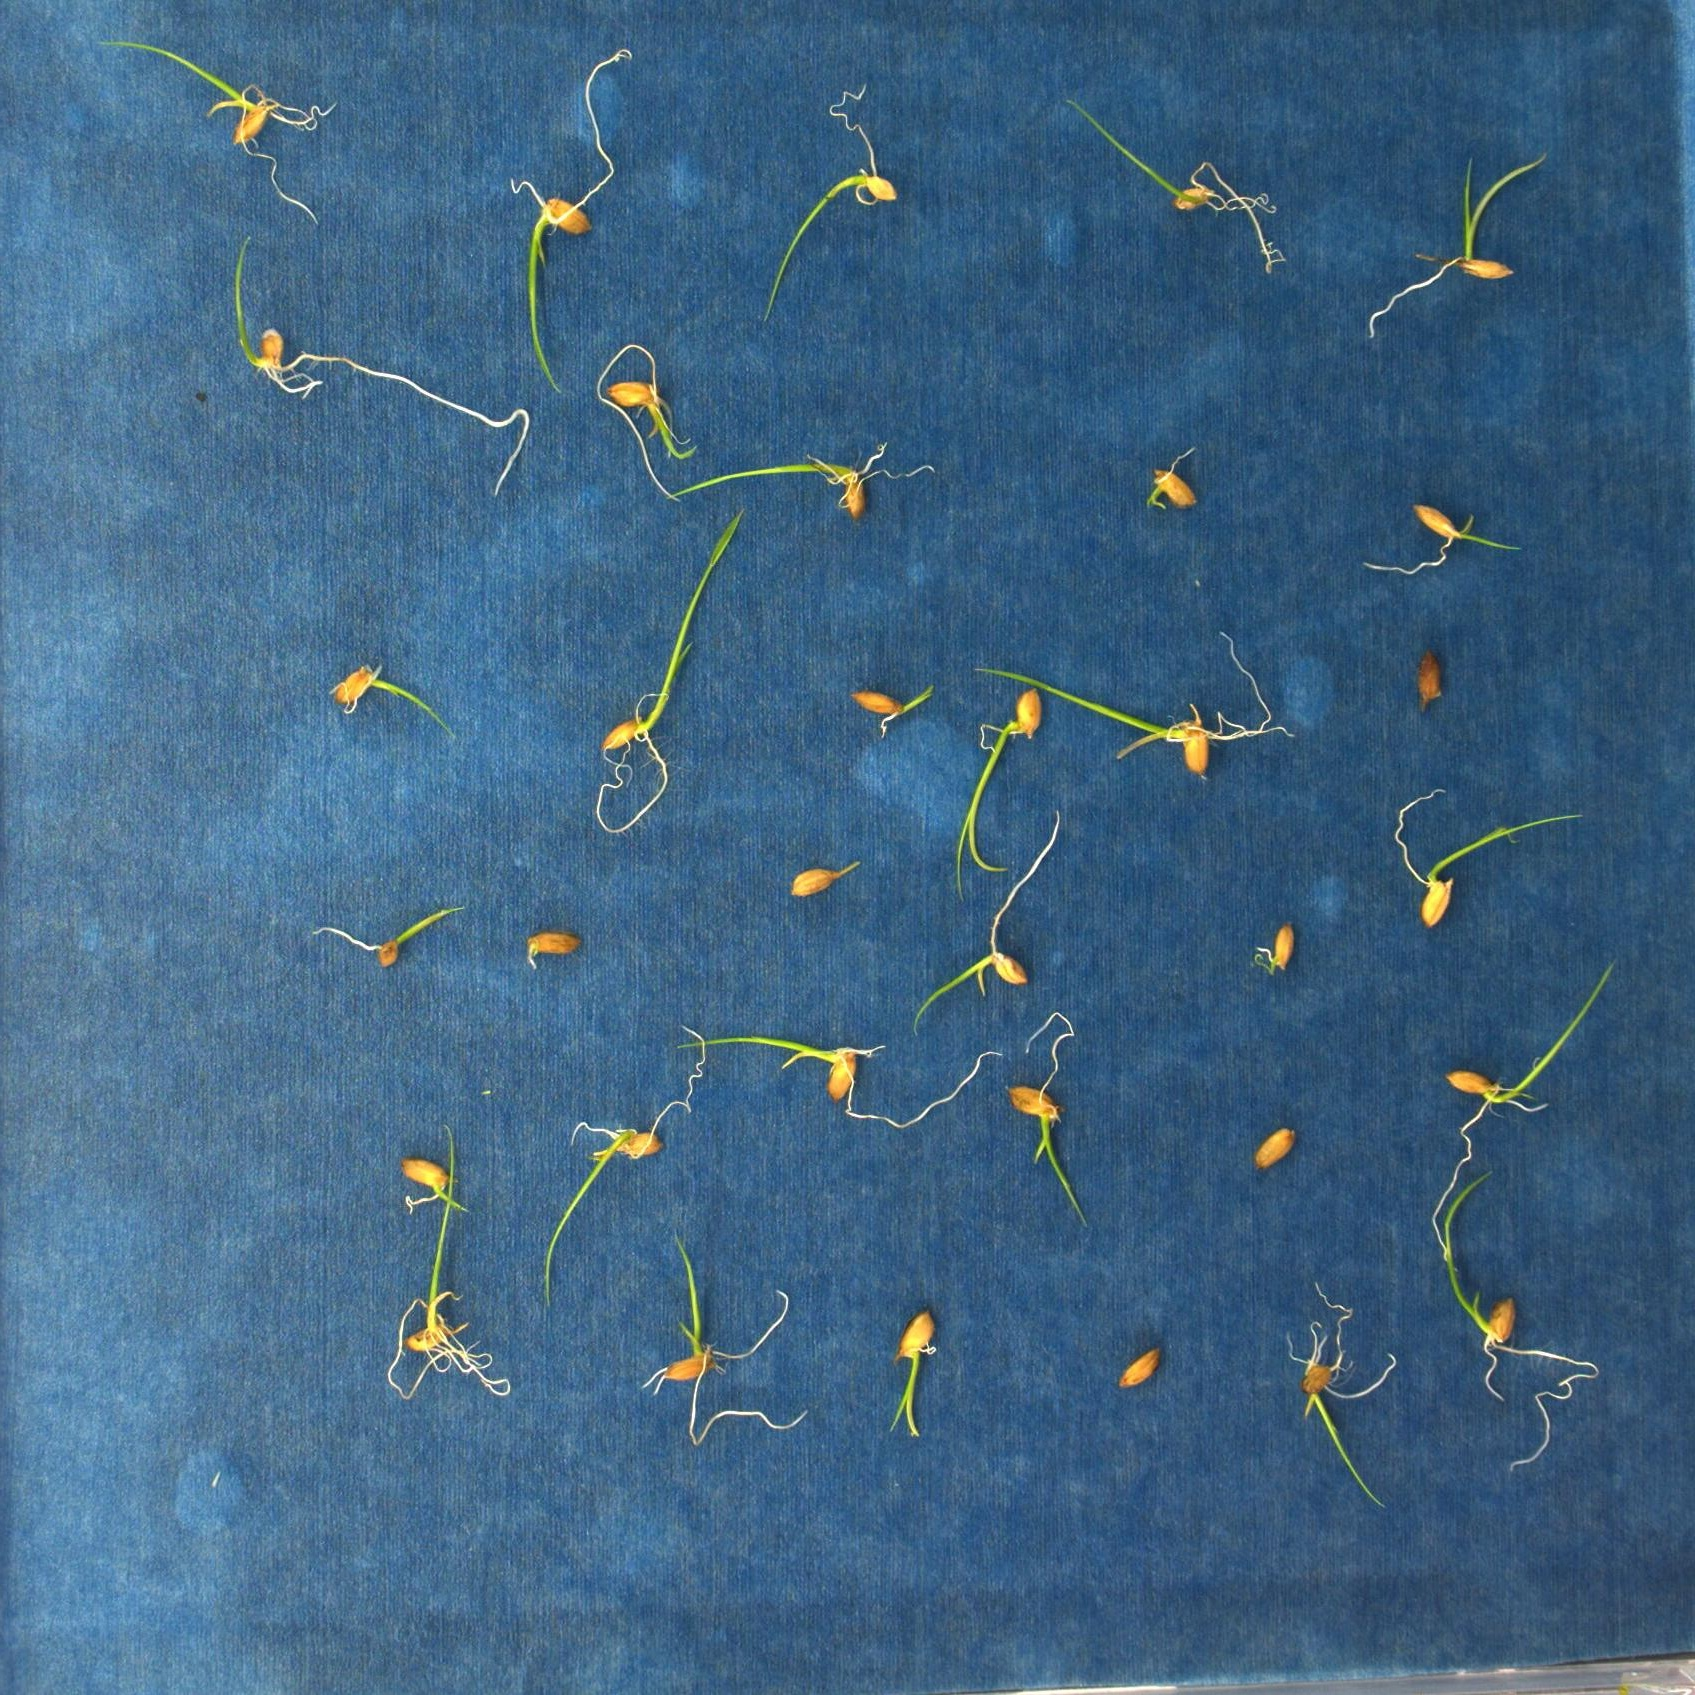not sprout: (1408, 647, 1445, 714), (515, 934, 587, 969), (1250, 1125, 1295, 1173), (1119, 1347, 1159, 1391)
sprout: (231, 234, 532, 498), (1430, 962, 1624, 1253), (973, 630, 1298, 782), (598, 504, 748, 830), (1444, 1167, 1600, 1478), (95, 37, 338, 231), (543, 1020, 705, 1304), (511, 47, 632, 397), (1066, 99, 1284, 273), (643, 1228, 810, 1440), (913, 810, 1066, 1035), (1363, 151, 1548, 337), (393, 1119, 511, 1397), (761, 85, 899, 320), (1391, 785, 1586, 934), (680, 1040, 1004, 1124), (1284, 1284, 1399, 1510), (674, 442, 938, 515), (953, 692, 1042, 900), (1010, 1014, 1090, 1232), (594, 340, 697, 506), (1360, 500, 1521, 573), (331, 666, 464, 744), (306, 906, 470, 965), (886, 1315, 941, 1439), (397, 1155, 472, 1218), (840, 685, 934, 733), (1142, 444, 1198, 512), (785, 854, 861, 900), (1250, 920, 1298, 979)
